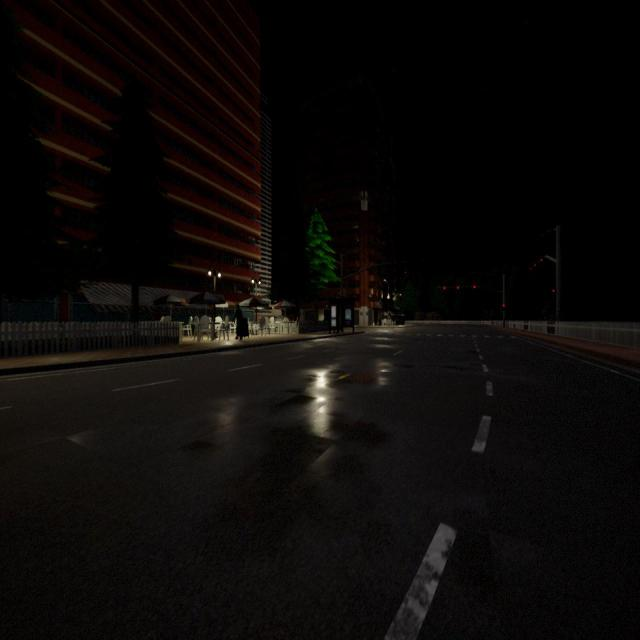Vehicle: (233, 303, 244, 341)
traffic_light: (442, 286, 446, 290), (502, 303, 505, 308), (540, 258, 543, 262), (473, 285, 476, 289), (552, 289, 555, 292), (457, 286, 459, 290), (534, 264, 536, 266)
